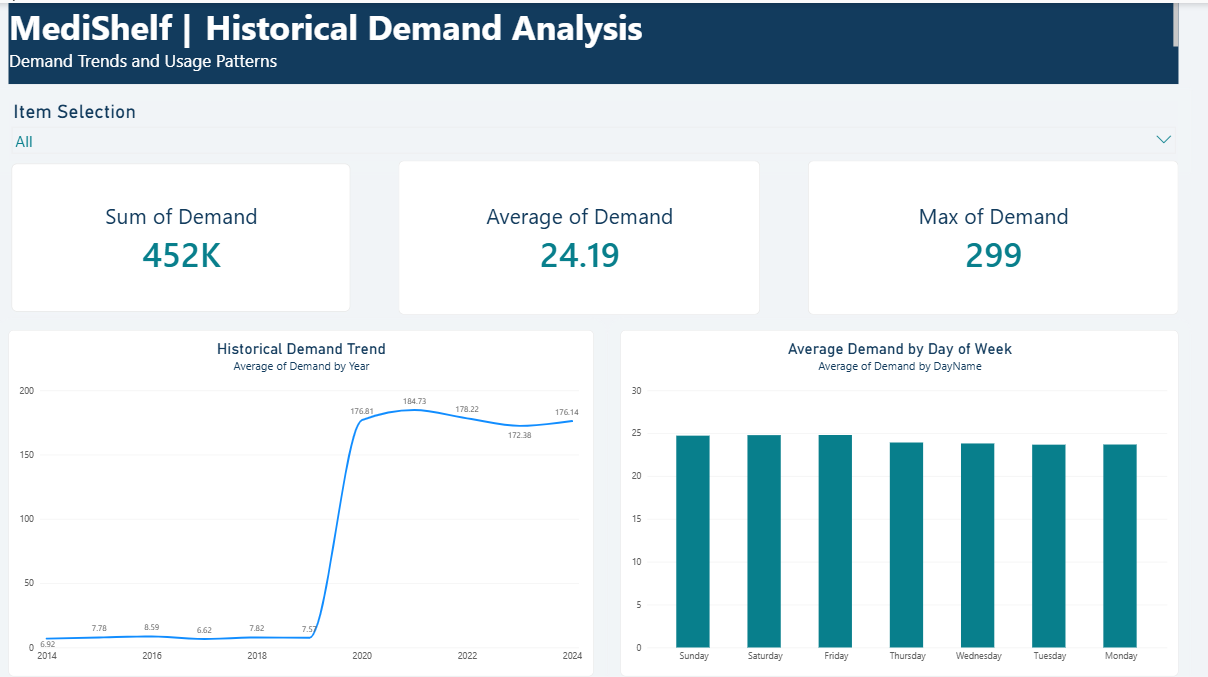

The dashboard page shown, as its layout file describes it:
{"tool":"powerbi","page":{"name":"Demand History","canvas":[1920,1080],"ordinal":0},"visuals":[{"type":"lineChart","title":"Historical Demand Trend","fields":{"Category":["Dim_Date.Date.Variation.Date Hierarchy.Year","Dim_Date.Date.Variation.Date Hierarchy.Quarter","Dim_Date.Date.Variation.Date Hierarchy.Month","Dim_Date.Date.Variation.Date Hierarchy.Day"],"Y":["Avg(Fact_Demand.Demand)"]},"box":[30.5,511.1,914.3,541.6],"z":0},{"type":"slicer","fields":{"Values":["Dim_Item.Item"]},"box":[30.5,152.4,1828.7,93.8],"z":1000},{"type":"cardVisual","fields":{"Data":["Avg(Fact_Demand.Demand)"]},"box":[640,246.2,565,241.5],"z":2000},{"type":"cardVisual","fields":{"Data":["Sum(Fact_Demand.Demand)"]},"box":[30.5,246.2,539.2,241.5],"z":3000},{"type":"cardVisual","fields":{"Data":["Max(Fact_Demand.Demand)"]},"box":[1280.1,246.2,579.1,241.5],"z":4000},{"type":"clusteredColumnChart","title":"Average Demand by Day of Week","fields":{"Category":["Dim_Date.DayName"],"Y":["Avg(Fact_Demand.Demand)"]},"box":[987,511.1,872.1,541.6],"z":5000},{"type":"textbox","box":[30.5,0,1828.7,126.6],"z":6000}]}

Visuals, with their boxes in screenshot pixels (x1, y1, x2, y2), scaled from the page's 1920x1080 canvas onto the 1208x677 screenshot:
"Historical Demand Trend" lineChart: 19/320/594/660
slicer - Dim_Item.Item: 19/96/1170/154
cardVisual - Avg(Fact_Demand.Demand): 403/154/758/306
cardVisual - Sum(Fact_Demand.Demand): 19/154/358/306
cardVisual - Max(Fact_Demand.Demand): 805/154/1170/306
"Average Demand by Day of Week" clusteredColumnChart: 621/320/1170/660
textbox: 19/0/1170/79
